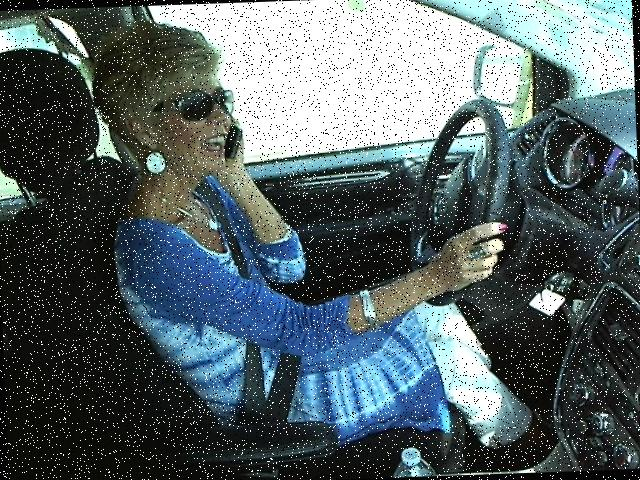c2 - Talking on the phone: (78, 6, 526, 382)
